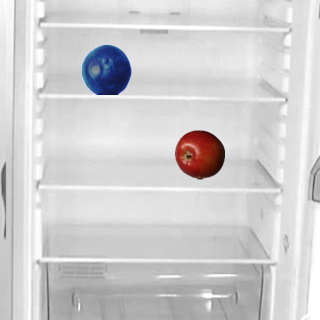Apple Braeburn: (174, 129, 224, 179)
Huckleberry: (81, 44, 131, 94)
